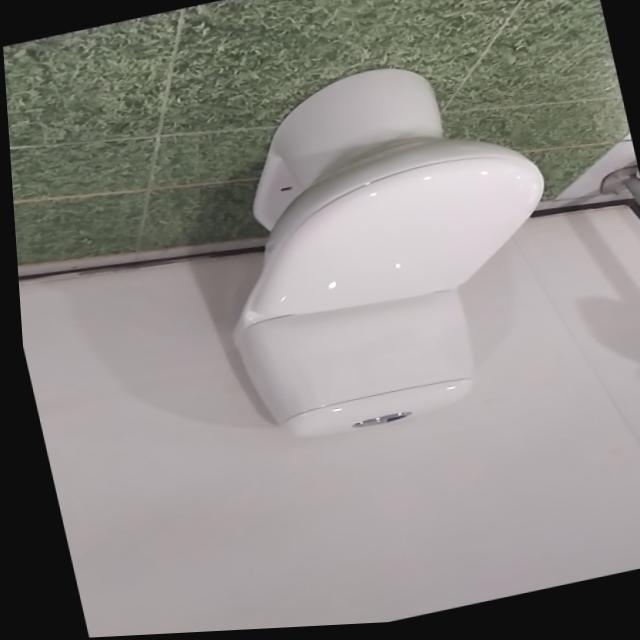toilet: (175, 43, 588, 457)
